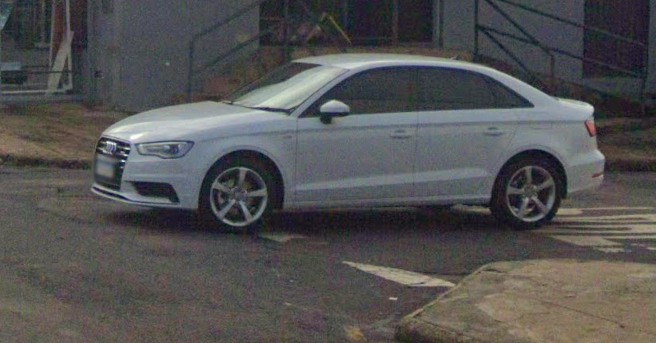car: (87, 47, 610, 246)
